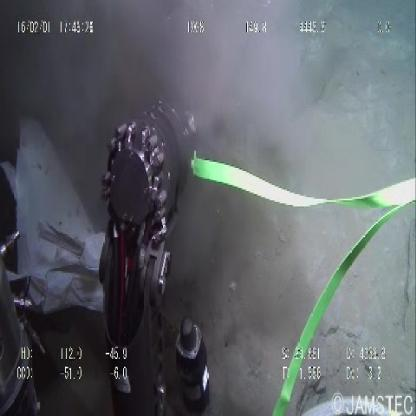Rov: (97, 88, 212, 410)
Rác: (7, 115, 110, 319)
